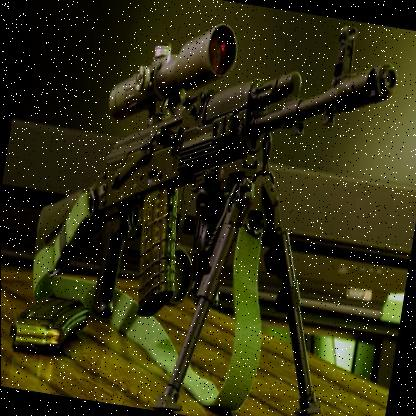rifle: (21, 0, 395, 364)
